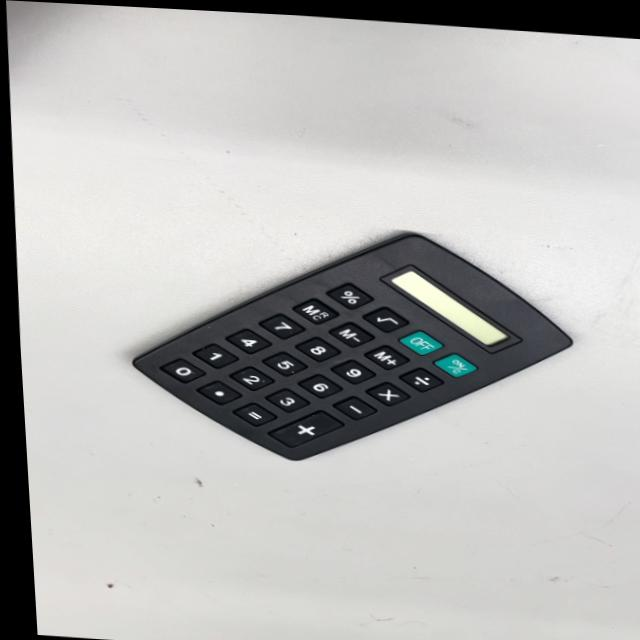calculator: (126, 216, 580, 484)
